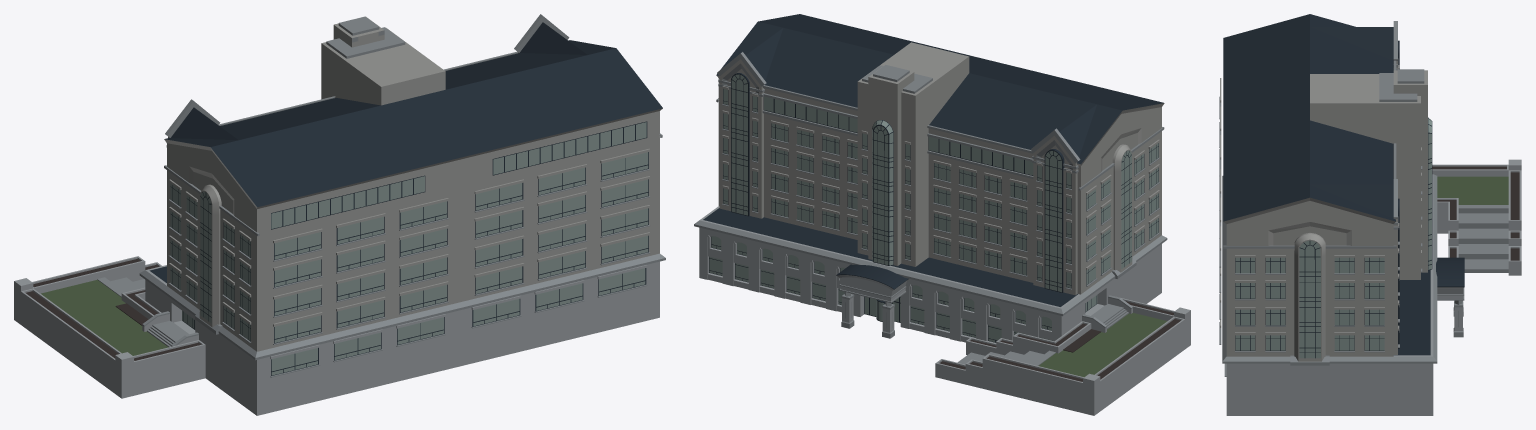
Rendered from 03_백주년.FBX.
3 renders of one model, left to right at view 1: azimuth 30°, elevation 25°; view 2: azimuth 150°, elevation 25°; view 3: azimuth 270°, elevation 25°, orthographic. The views are drawn at different scales.
Parts seen in each view (by area): view 1: 03_백주년; view 2: 03_백주년; view 3: 03_백주년.
Part boxes in pixels (x1=…): 03_백주년: x1=14, y1=14, x2=665, y2=415; 03_백주년: x1=694, y1=14, x2=1190, y2=415; 03_백주년: x1=1219, y1=14, x2=1521, y2=415.
Size of the model in its own units: 290 by 151 by 166.
